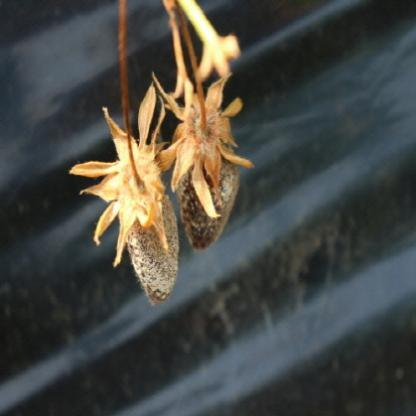Strawberry_Gray_Mold: (70, 82, 184, 304), (153, 72, 253, 252)
